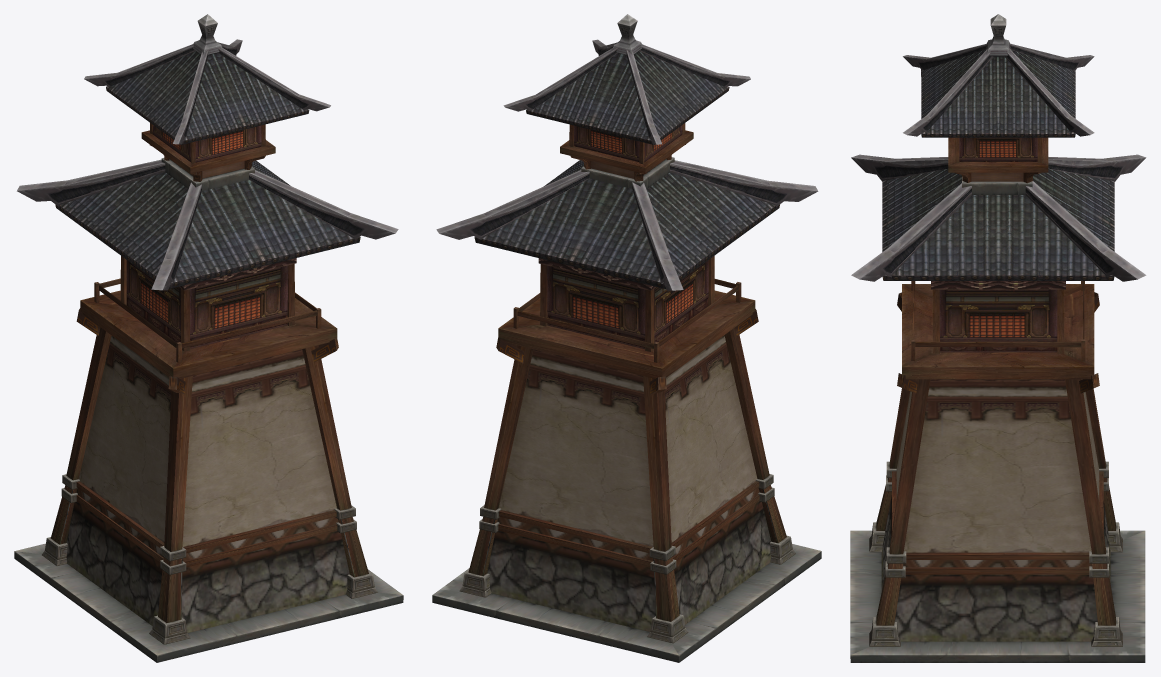
The model's file is s7_city_jianzhu_talou_01.FBX.
The picture shows the model from 3 angles, left to right: view 1: azimuth 30°, elevation 25°; view 2: azimuth 150°, elevation 25°; view 3: azimuth 270°, elevation 25°; orthographic projection. The views are drawn at different scales.
Visible parts, largest first — view 1: s7_city_jianzhu_talou_01; view 2: s7_city_jianzhu_talou_01; view 3: s7_city_jianzhu_talou_01.
Boxes of the visible parts, x1=… form: s7_city_jianzhu_talou_01: x1=14, y1=14, x2=403, y2=662; s7_city_jianzhu_talou_01: x1=432, y1=14, x2=821, y2=662; s7_city_jianzhu_talou_01: x1=850, y1=14, x2=1146, y2=662.
Bounding box in the file's own units: 8.31 × 18.15 × 8.31.
